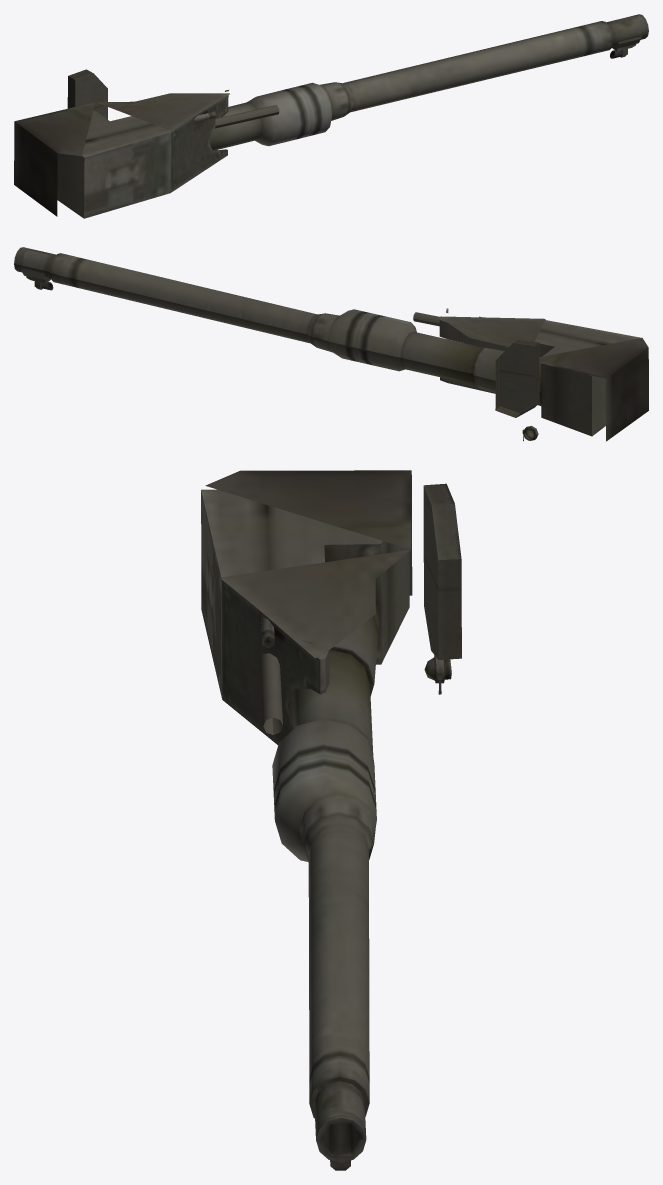
File: gun.gltf
3 renders of one model, top to bottom at view 1: azimuth 30°, elevation 25°; view 2: azimuth 150°, elevation 25°; view 3: azimuth 270°, elevation 25°, orthographic. The views are drawn at different scales.
Parts seen in each view (by area): view 1: gun; view 2: gun; view 3: gun.
Boxes of the visible parts, left/top/right/bottom form: gun: left=14, top=14, right=648, bottom=218; gun: left=14, top=247, right=648, bottom=441; gun: left=201, top=470, right=461, bottom=1170.
Bounding box in the file's own units: 4.48 × 0.7004 × 0.8385.
Materials: 1 (1 with a texture image).
